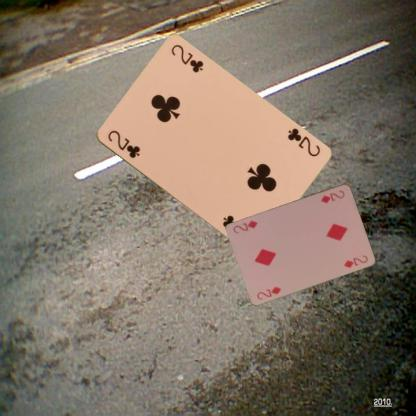2c: (284, 126, 322, 158), (105, 127, 141, 160)
2d: (318, 187, 346, 205), (254, 284, 283, 300)
